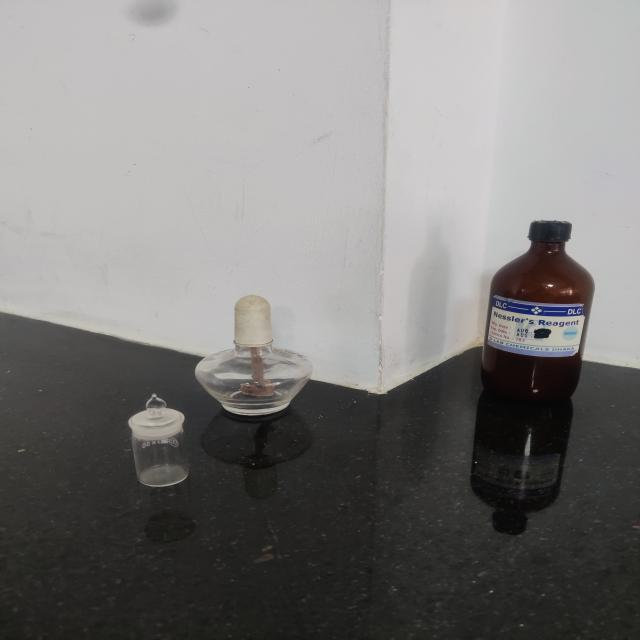Nessler_Reagent_Bottle: (442, 190, 614, 408)
Spirit_Lamp: (188, 286, 319, 422)
Weighing_Bottle: (107, 387, 195, 507)
